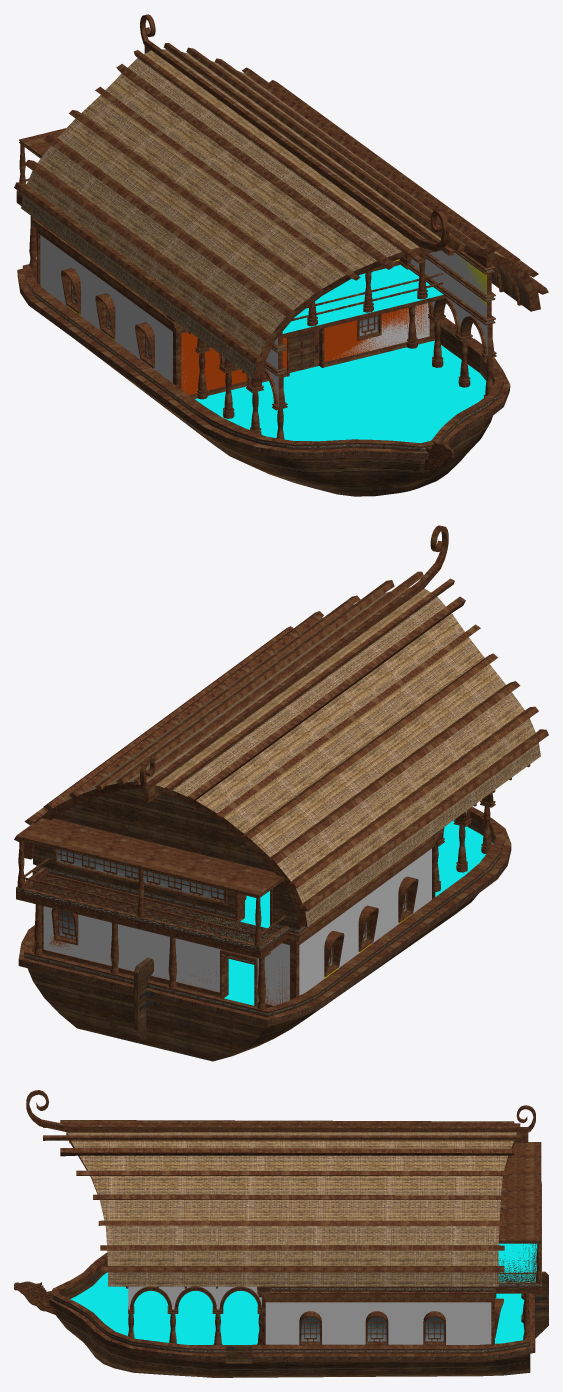
Rendered from port_lordhouseboat_founder_town.FBX.
3 views of the same model, one above another, from view 1: azimuth 30°, elevation 25°; view 2: azimuth 150°, elevation 25°; view 3: azimuth 270°, elevation 25° (orthographic). The views are drawn at different scales.
Parts seen in each view (by area): view 1: port_lordhouseboat_founder_town_exterior2, port_lordhouseboat_founder_town_exterior1, port_lordhouseboat_founder_town_decofloor, port_lordhouseboat_founder_town_decowallext, port_lordhouseboat_founder_town_door; view 2: port_lordhouseboat_founder_town_exterior2, port_lordhouseboat_founder_town_exterior1, port_lordhouseboat_founder_town_decofloor; view 3: port_lordhouseboat_founder_town_exterior2, port_lordhouseboat_founder_town_exterior1, port_lordhouseboat_founder_town_decofloor, port_lordhouseboat_founder_town_gate.
Part boxes in pixels (box(x1,y1,x2,y2)): port_lordhouseboat_founder_town_exterior2: box(14, 14, 548, 378); port_lordhouseboat_founder_town_exterior1: box(17, 216, 510, 496); port_lordhouseboat_founder_town_decofloor: box(195, 265, 486, 443); port_lordhouseboat_founder_town_decowallext: box(181, 303, 428, 394); port_lordhouseboat_founder_town_door: box(289, 329, 319, 372); port_lordhouseboat_founder_town_exterior2: box(14, 525, 548, 958); port_lordhouseboat_founder_town_exterior1: box(18, 792, 511, 1061); port_lordhouseboat_founder_town_decofloor: box(168, 819, 492, 1005); port_lordhouseboat_founder_town_exterior2: box(26, 1090, 541, 1298); port_lordhouseboat_founder_town_exterior1: box(14, 1252, 548, 1377); port_lordhouseboat_founder_town_decofloor: box(70, 1243, 537, 1344); port_lordhouseboat_founder_town_gate: box(226, 1345, 252, 1361).
Size of what is drawn, in the model's own units: 1783 by 1755 by 3353.
